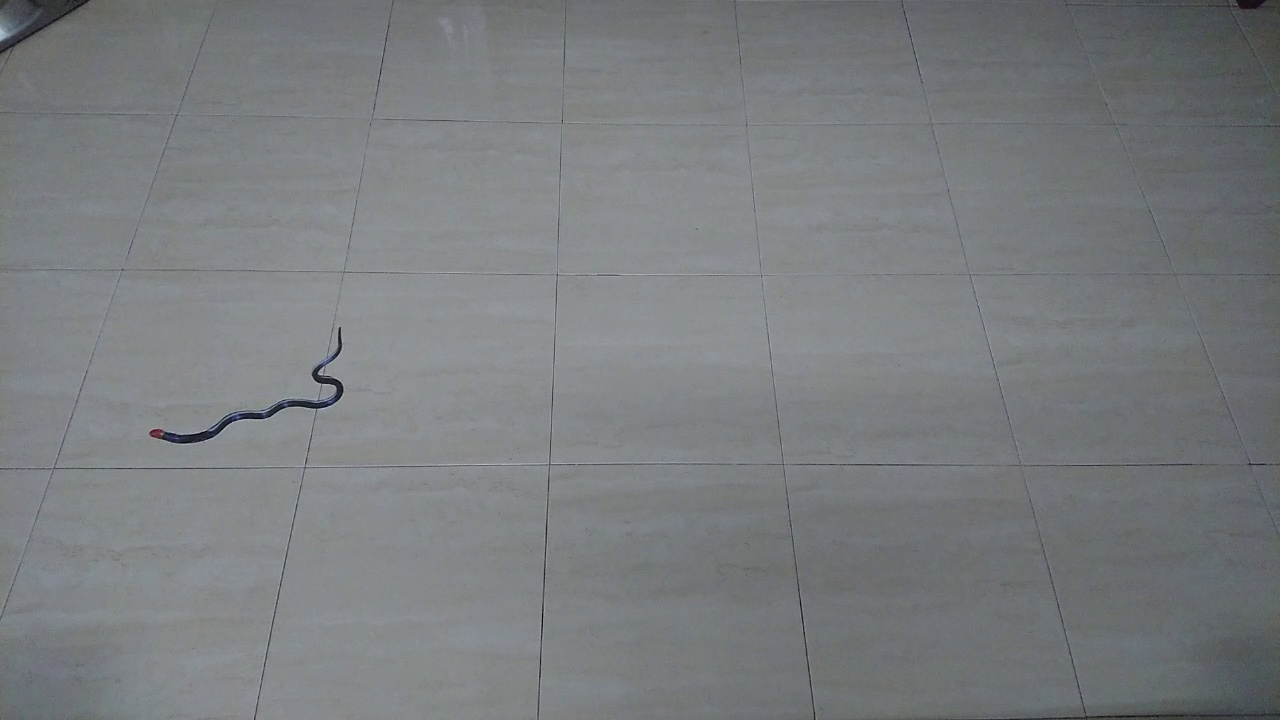snake: (139, 314, 352, 450)
